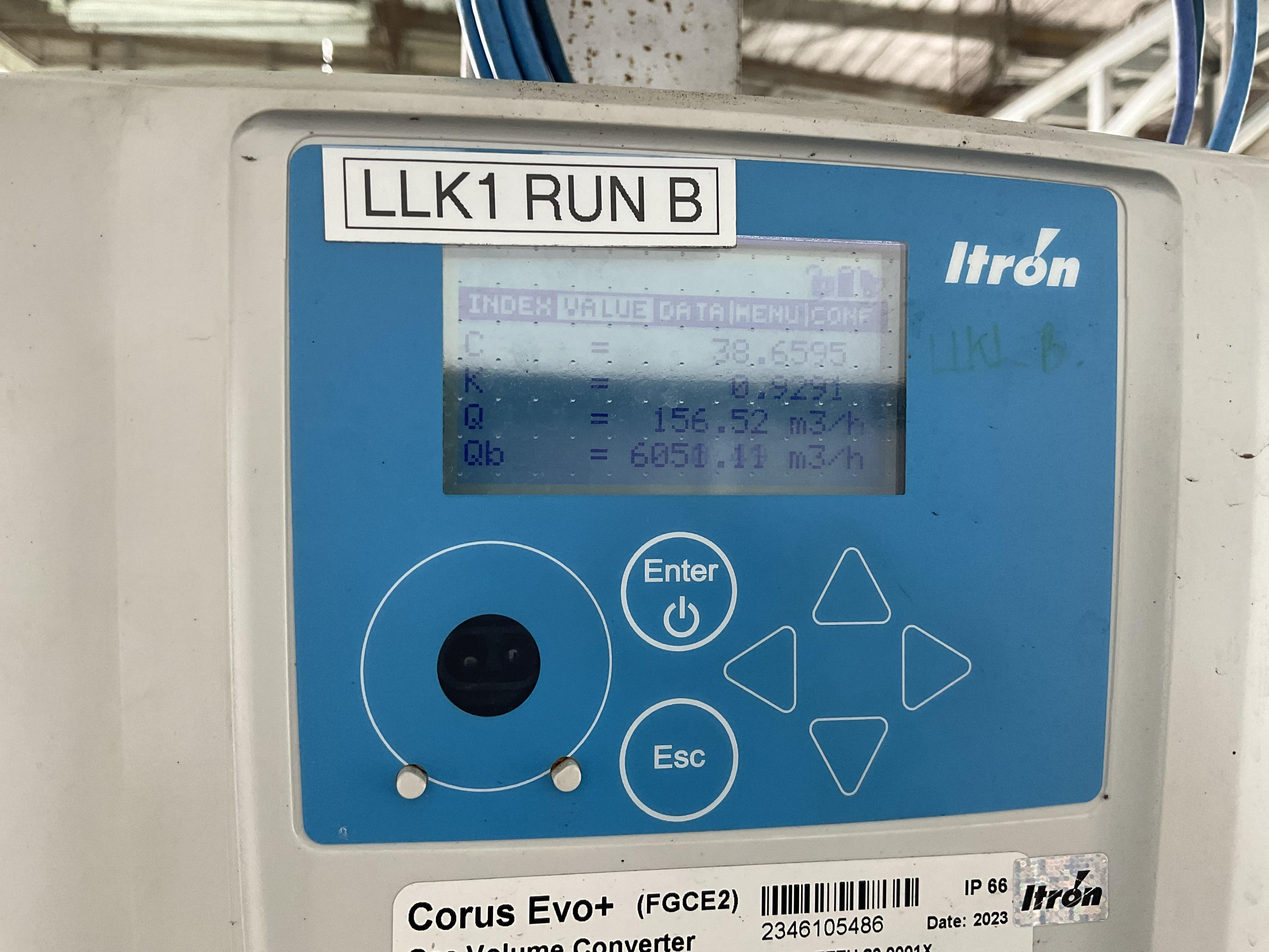digital_screen: (442, 227, 906, 495)
